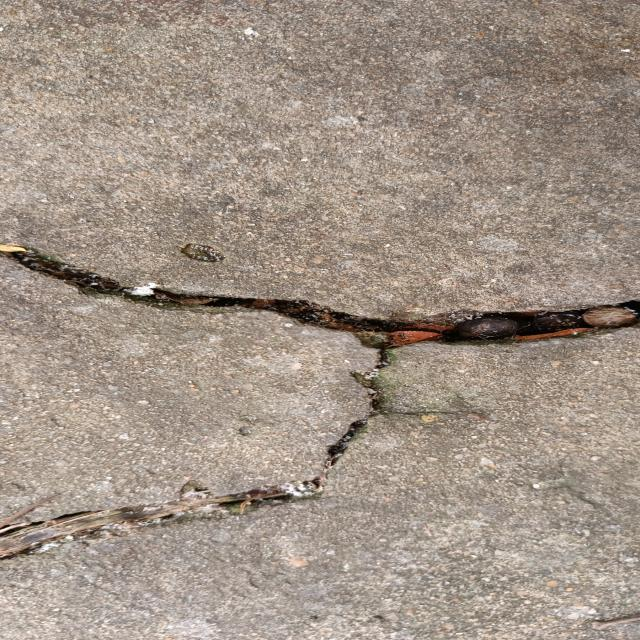branched cracks: (0, 245, 639, 558)
